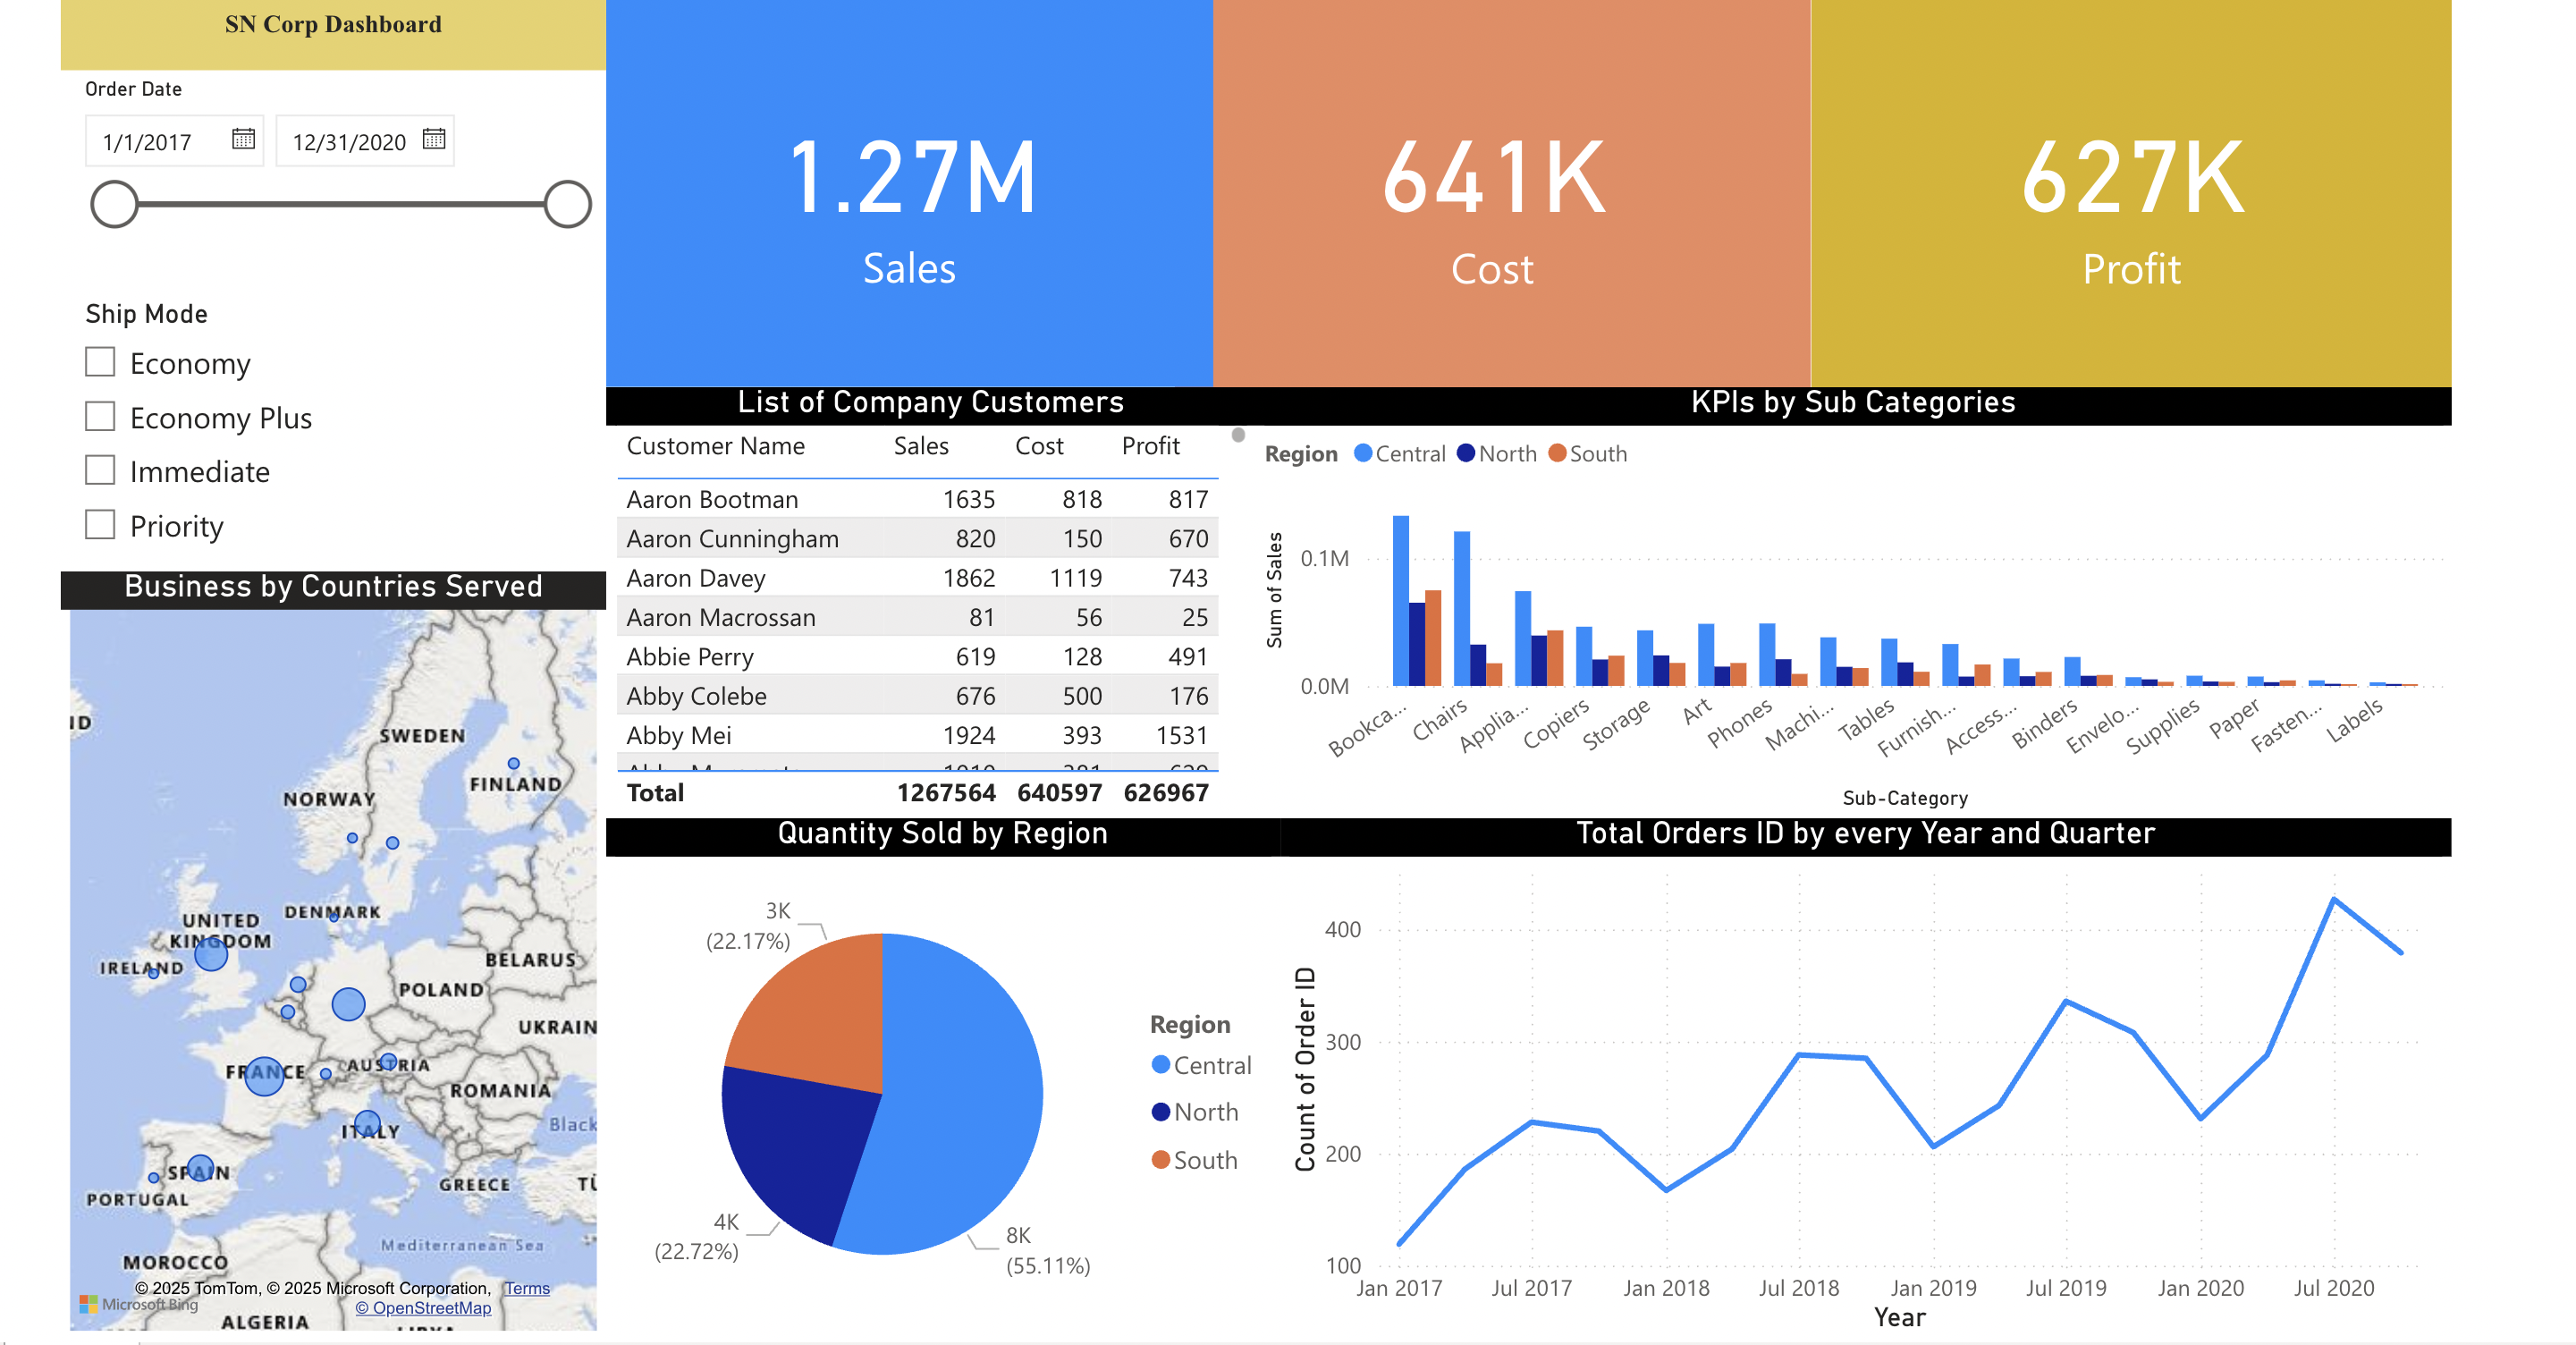

This screenshot's page, from the dashboard's own definition file:
{"tool":"powerbi","page":{"name":"Page 1","canvas":[1280,720],"ordinal":0},"visuals":[{"type":"card","fields":{"Values":["List of Orders.Profit"]},"box":[937.2,0,343.1,209.9],"z":0},{"type":"card","fields":{"Values":["List of Orders.Cost"]},"box":[596.9,0,340.3,209.9],"z":1000},{"type":"card","fields":{"Values":["List of Orders.Sales"]},"box":[292.2,0,325,209.5],"z":2000},{"type":"tableEx","title":"List of Company Customers","fields":{"Values":["List of Orders.Customer Name","List of Orders.Sales","List of Orders.Cost","List of Orders.Profit"]},"box":[292.2,209.5,347.8,230.9],"z":3000},{"type":"clusteredColumnChart","title":"KPIs by Sub Categories","fields":{"Category":["List of Orders.Sub-Category"],"Y":["List of Orders.Sales"],"Series":["List of Orders.Region"]},"box":[639.5,209.9,640.8,230.5],"z":4000},{"type":"lineChart","title":"Total Orders ID by every Year and Quarter","fields":{"Y":["List of Orders.Order ID"],"Category":["List of Orders.Order Date.Variation.Date Hierarchy.Year","List of Orders.Order Date.Variation.Date Hierarchy.Quarter"]},"box":[653.2,440.5,627.1,279.9],"z":5000},{"type":"pieChart","title":"Quantity Sold by Region","fields":{"Category":["List of Orders.Region"],"Y":["List of Orders.Quantity"]},"box":[292.3,440.5,360.9,279.9],"z":6000},{"type":"slicer","title":"Order Date","fields":{"Values":["List of Orders.Order Date"]},"box":[0,39.9,292.2,118.3],"z":6001},{"type":"slicer","fields":{"Values":["List of Orders.Ship Mode"]},"box":[0,158.2,292.2,149.7],"z":6002},{"type":"map","title":"Business by Countries Served","fields":{"Category":["List of Orders.Country"],"Size":["List of Orders.Sales"]},"box":[0,307.9,292.2,411.9],"z":6003},{"type":"textbox","title":"SN Corp Dashboard","box":[0,0,292.2,39.9],"z":6004}]}

Visuals, with their boxes in screenshot pixels (x1, y1, x2, y2):
card - List of Orders.Profit: (left=1783, top=34, right=2413, bottom=419)
card - List of Orders.Cost: (left=1157, top=34, right=1783, bottom=419)
card - List of Orders.Sales: (left=597, top=34, right=1195, bottom=419)
"List of Company Customers" tableEx: (left=597, top=419, right=1237, bottom=843)
"KPIs by Sub Categories" clusteredColumnChart: (left=1236, top=419, right=2413, bottom=843)
"Total Orders ID by every Year and Quarter" lineChart: (left=1261, top=843, right=2413, bottom=1344)
"Quantity Sold by Region" pieChart: (left=597, top=843, right=1261, bottom=1344)
"Order Date" slicer: (left=61, top=107, right=597, bottom=325)
slicer - List of Orders.Ship Mode: (left=61, top=325, right=597, bottom=599)
"Business by Countries Served" map: (left=61, top=599, right=597, bottom=1344)
"SN Corp Dashboard" textbox: (left=61, top=34, right=597, bottom=107)
